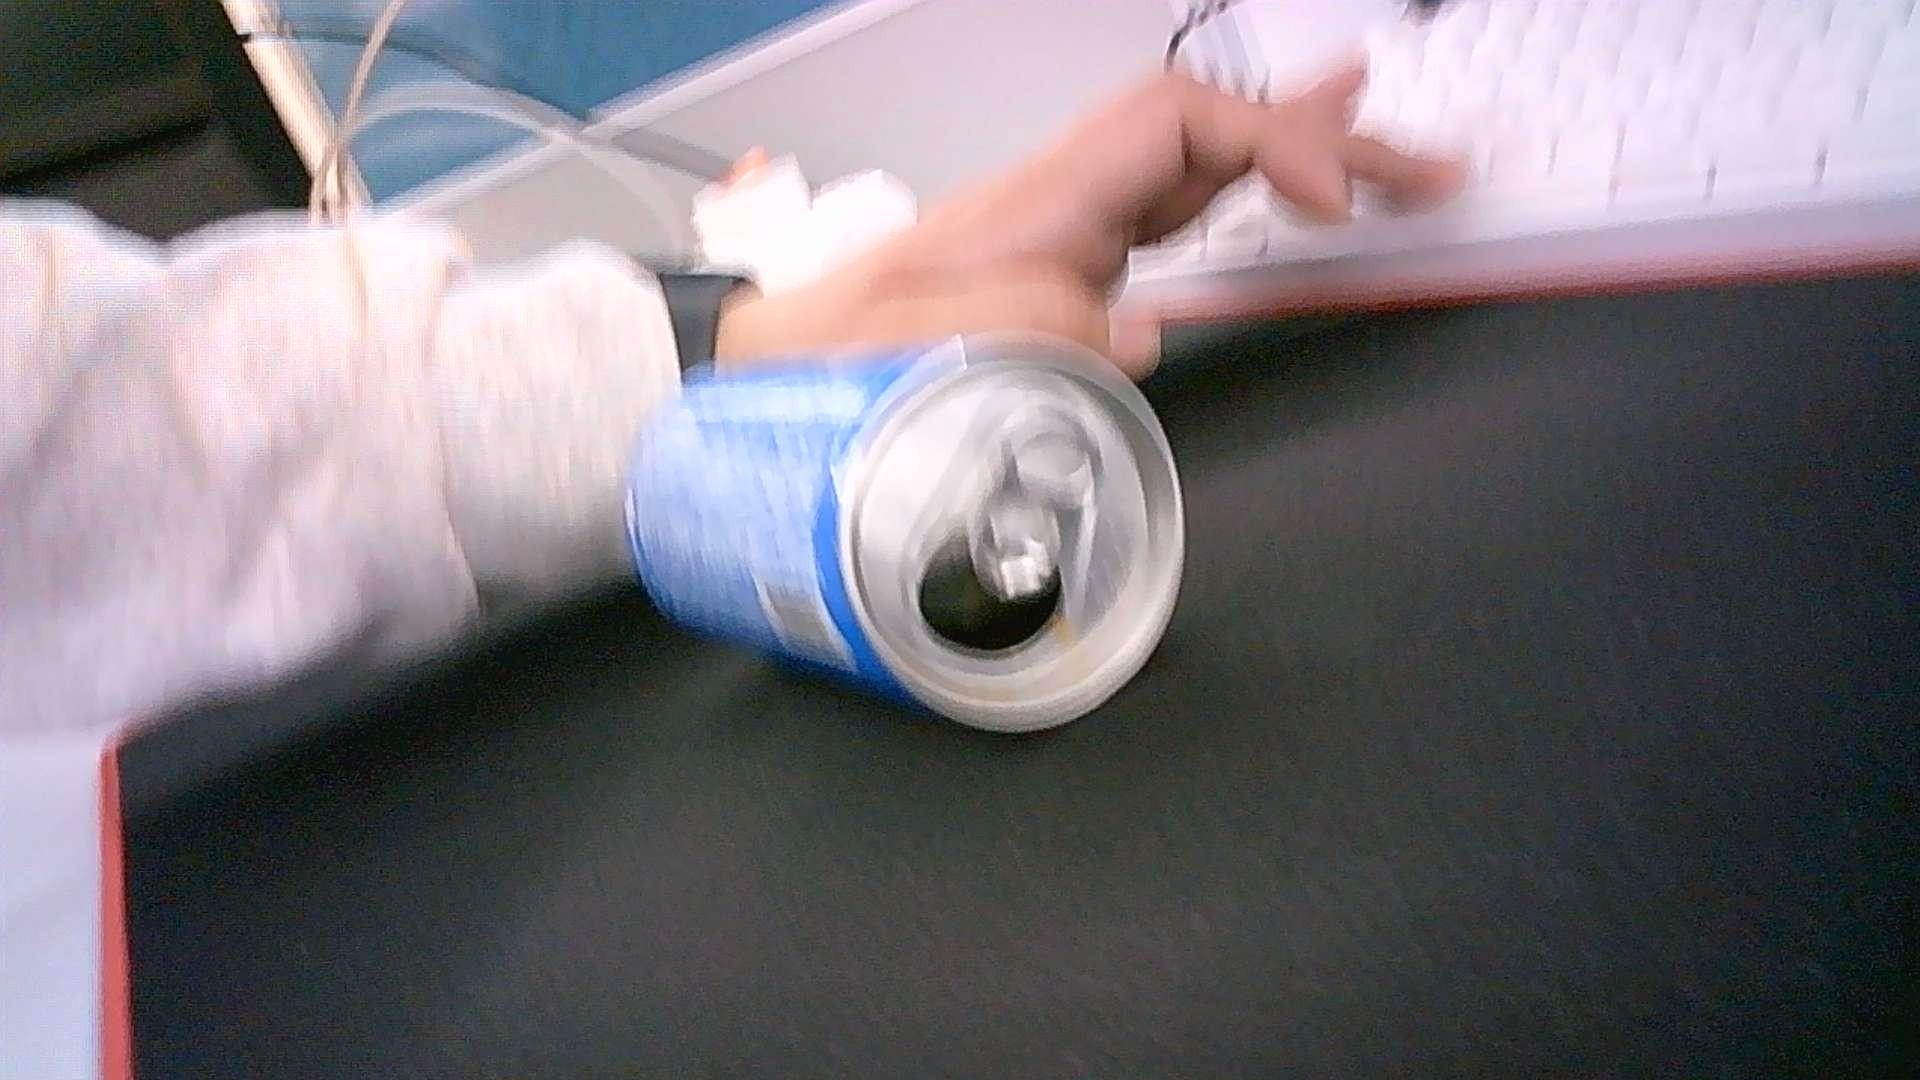letsbe: (624, 334, 1185, 735)
